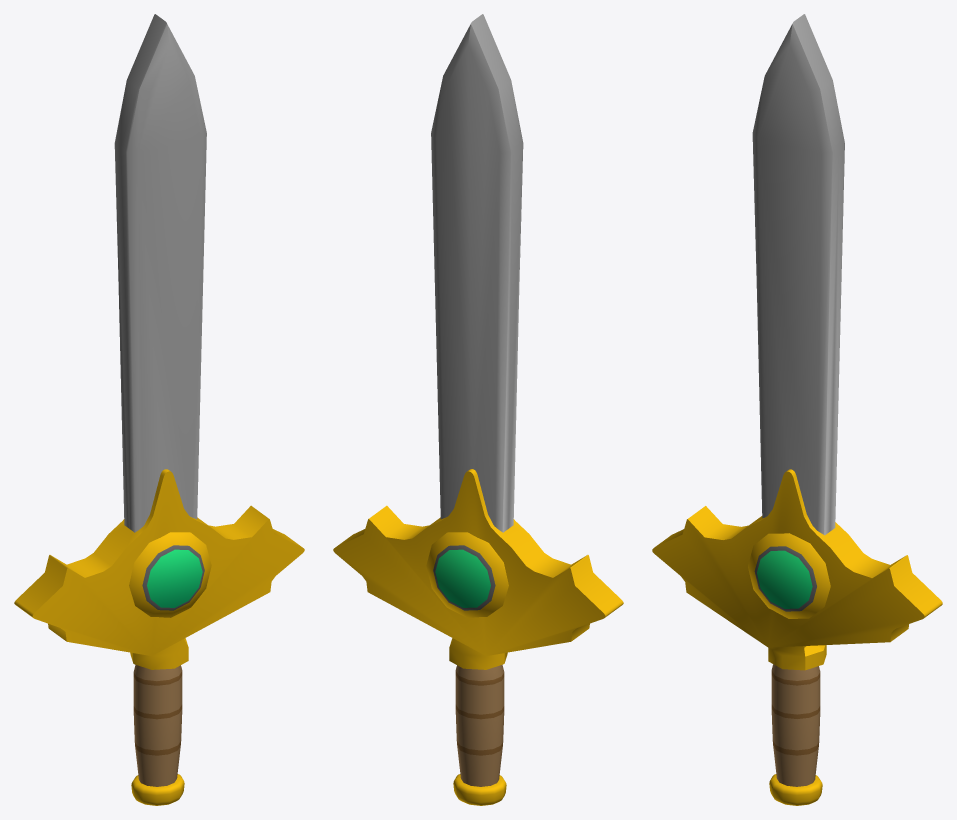
File: Sowrd_3.fbx
The picture shows the model from 3 angles, left to right: view 1: azimuth 30°, elevation 25°; view 2: azimuth 150°, elevation 25°; view 3: azimuth 330°, elevation 25°; orthographic projection.
Parts seen in each view (by area): view 1: Sowrd_3; view 2: Sowrd_3; view 3: Sowrd_3.
Part boxes in pixels (x1,y1,x2,y2): Sowrd_3: (14,14,304,805); Sowrd_3: (333,14,623,805); Sowrd_3: (652,14,942,805).
Size of the model in its own units: 0.1546 by 0.4233 by 0.0297.
